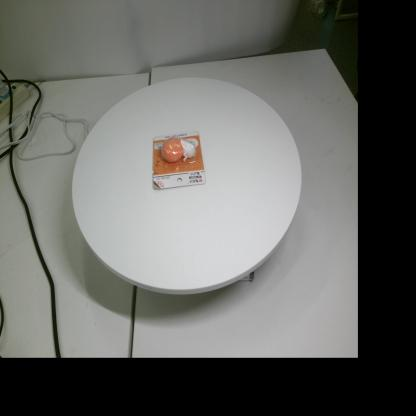Stationery: (153, 131, 206, 190)
